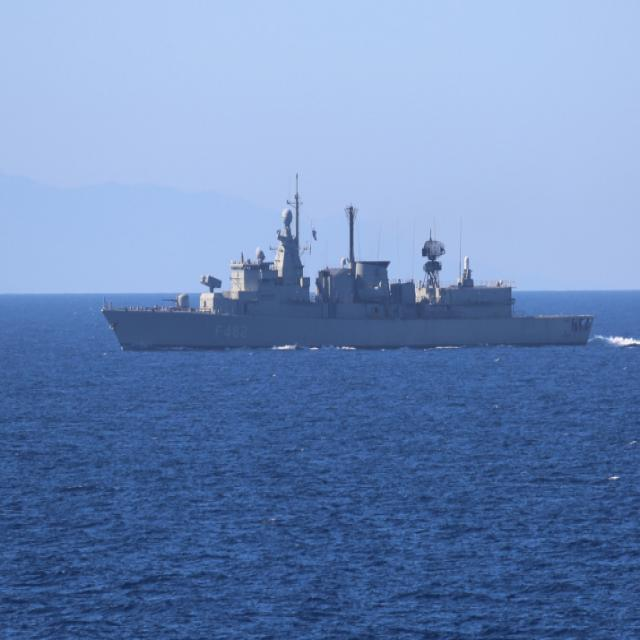Fragata: (101, 159, 597, 357)
